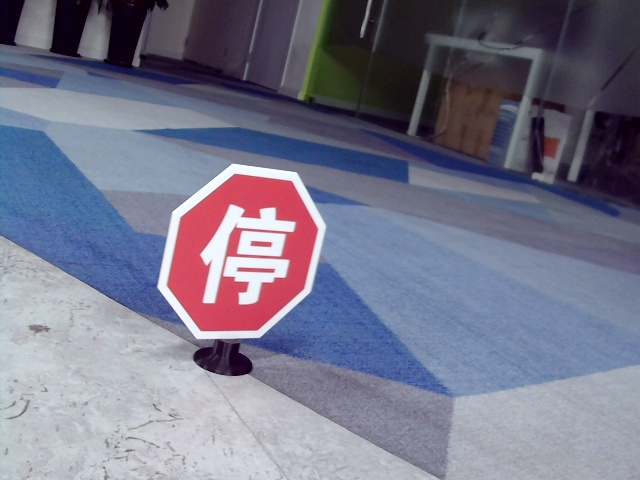stop: (204, 199, 286, 306)
